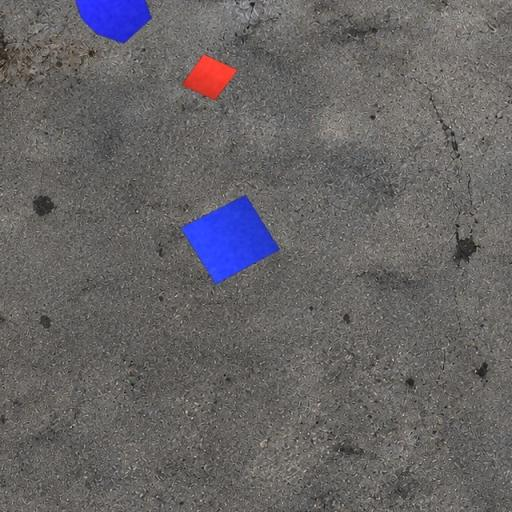BLUE_SQUARE: (179, 194, 281, 285)
RED_SQUARE: (181, 53, 238, 101)
